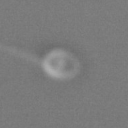normal: (1, 38, 43, 64)
